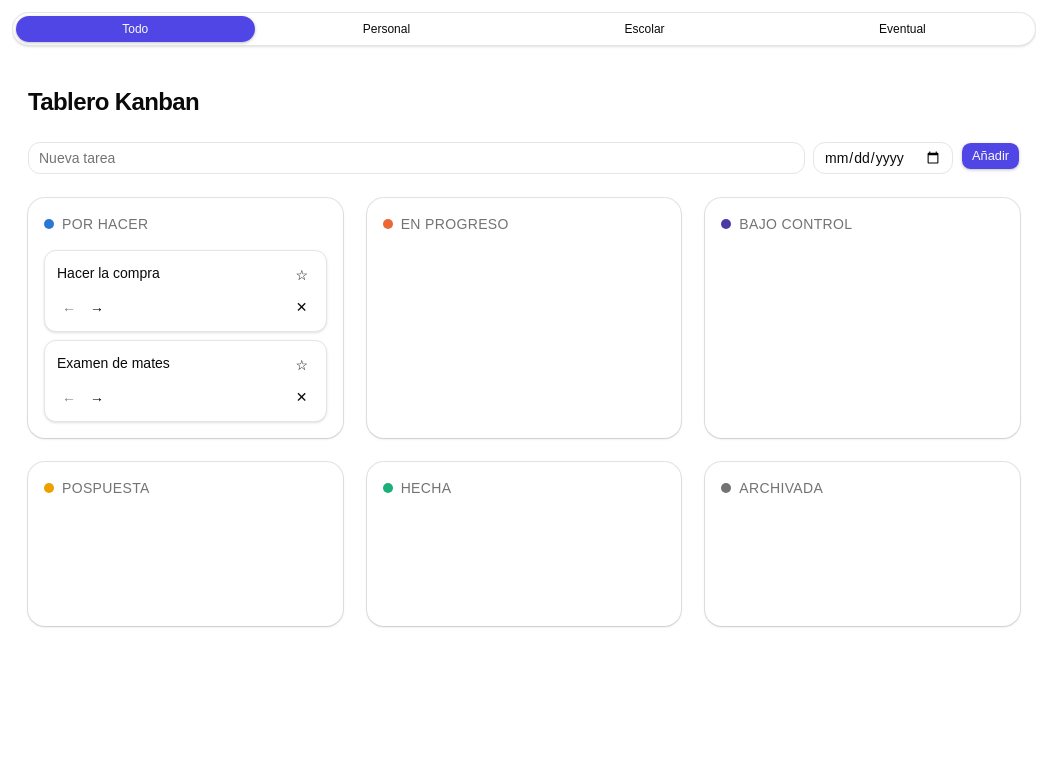
Test: PaginaKanban › filtro por ámbito › al elegir "Escolar" en el selector, oculta las tareas personales
expect the button "Hacer la compra" is shown: met, box [57,263,160,283]
expect the button "Examen de mates" is shown: met, box [57,353,170,373]
Click the button "Escolar" at (645, 29), box [517,15,772,43]
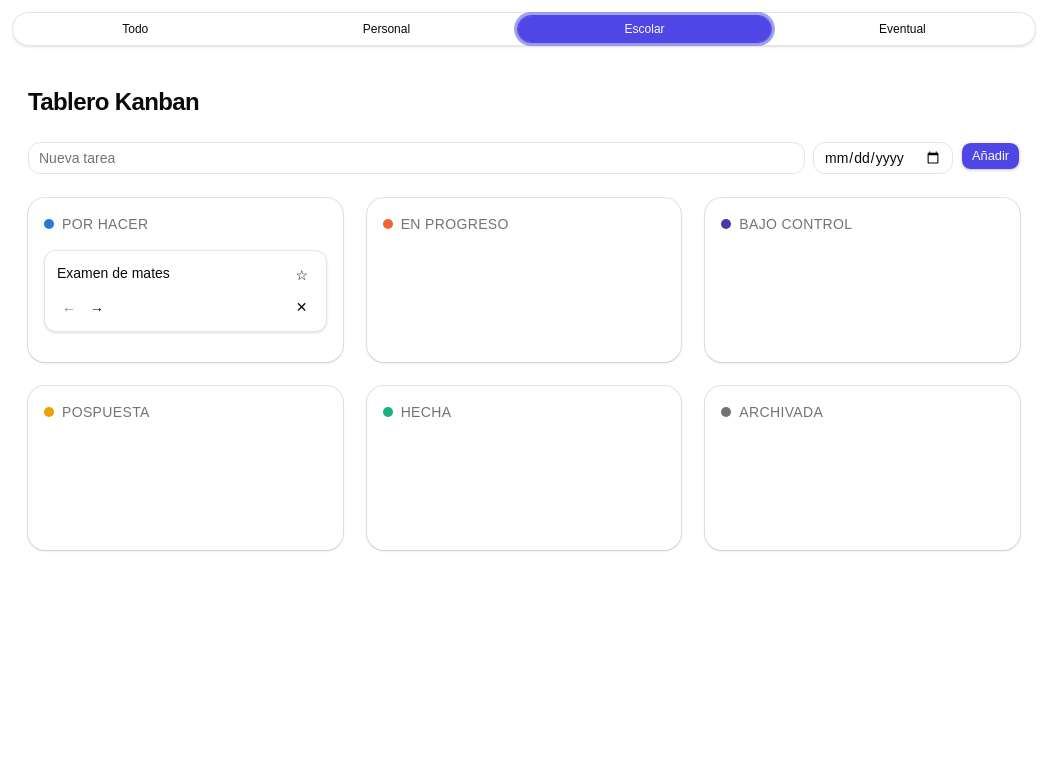
expect the button "Examen de mates" is shown: met, box [57,263,170,283]
expect the button "Hacer la compra" is gone: met
